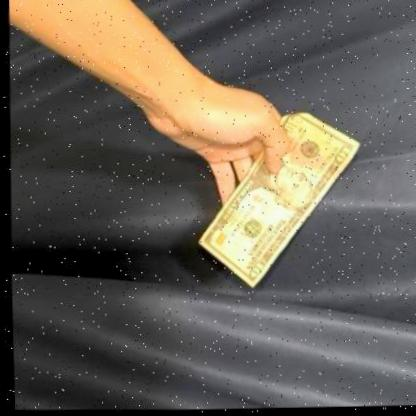ten-front: (186, 105, 367, 295)
